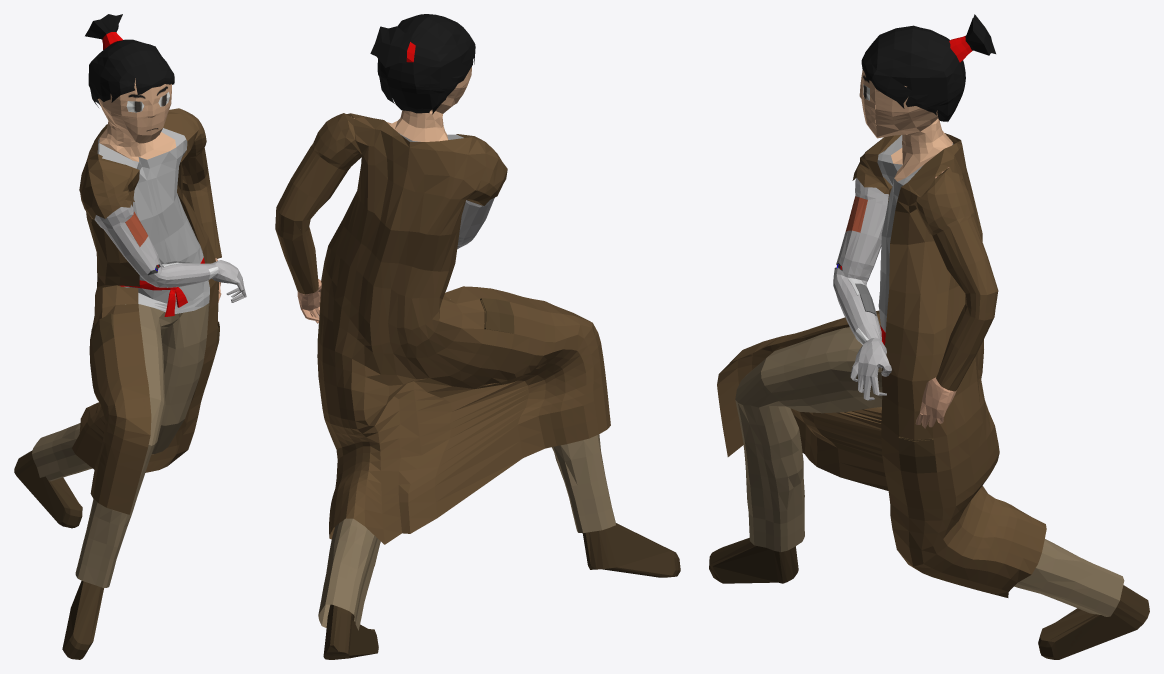
Rendered from One_DL_000006.obj.
3 renders of one model, left to right at view 1: azimuth 30°, elevation 25°; view 2: azimuth 150°, elevation 25°; view 3: azimuth 270°, elevation 25°, orthographic. The views are drawn at different scales.
Parts seen in each view (by area): view 1: Hair_Cube.004; view 2: Hair_Cube.004; view 3: Hair_Cube.004.
Part boxes in pixels (x1,y1,x2,y2): Hair_Cube.004: (14, 14, 246, 659); Hair_Cube.004: (275, 14, 680, 659); Hair_Cube.004: (709, 14, 1149, 659).
Bounding box in the file's own units: 1.7 × 3.46 × 2.15.
